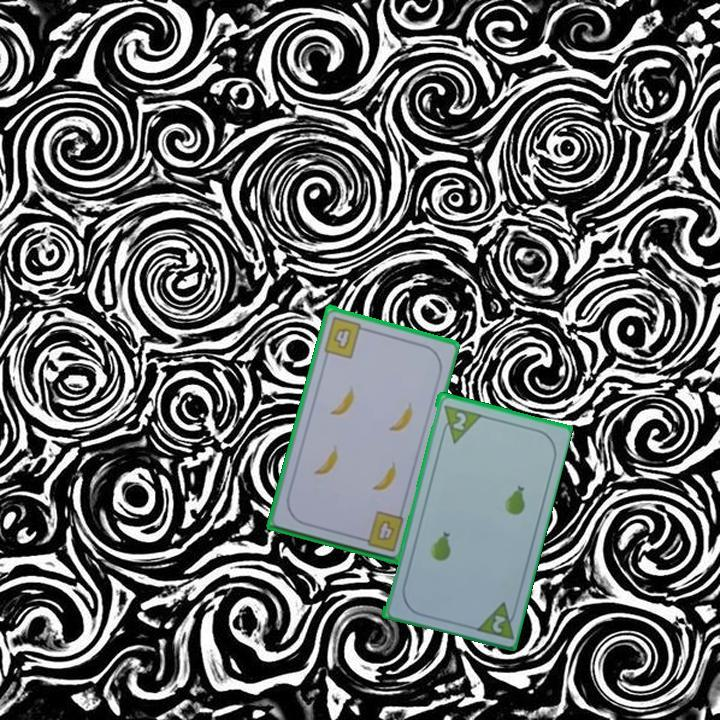2p: (436, 401, 482, 446), (488, 611, 508, 636)
4b: (320, 312, 370, 361), (373, 516, 397, 543)
